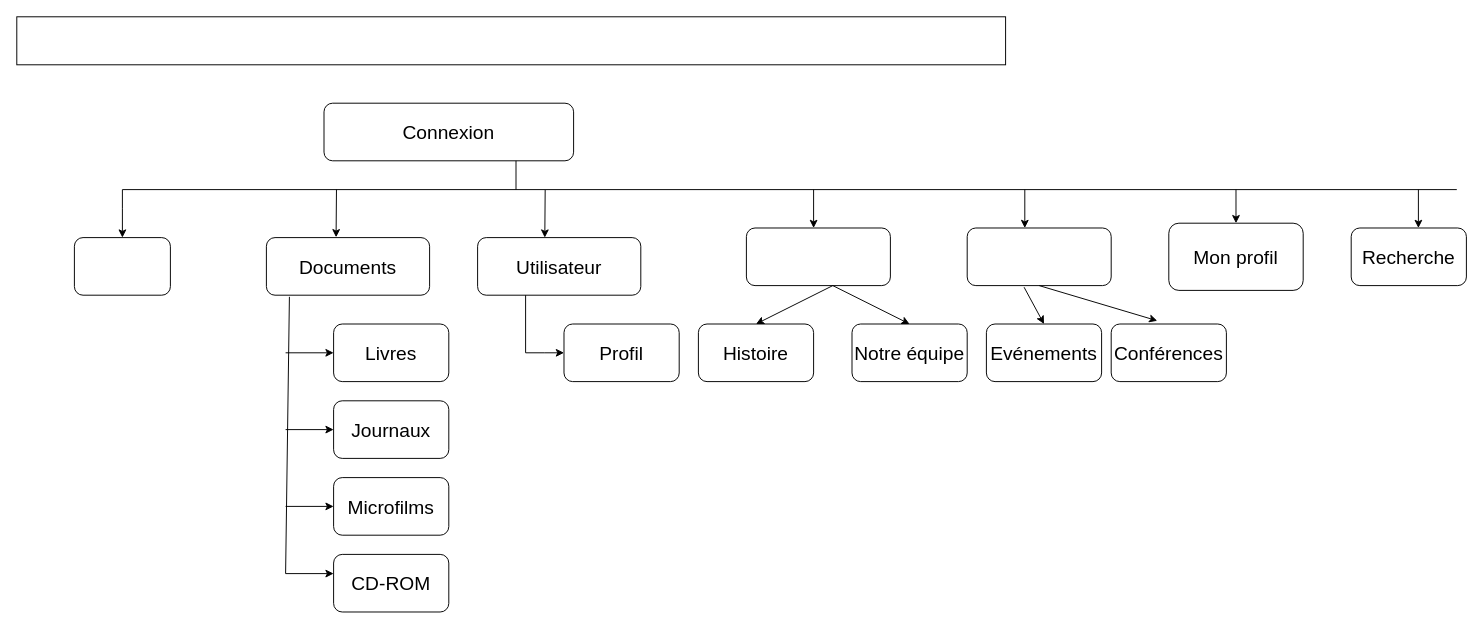
Some shapes in this 1483 by 629 pixel diagram are drawn without their labels. Here are the shapes that lost their labels. From the top down, the box of each, then its label:
(16, 16, 1006, 65): Arboresence du site mediathèque
(73, 237, 170, 295): Accueil
(745, 227, 890, 286): A propos
(966, 227, 1111, 286): Services
